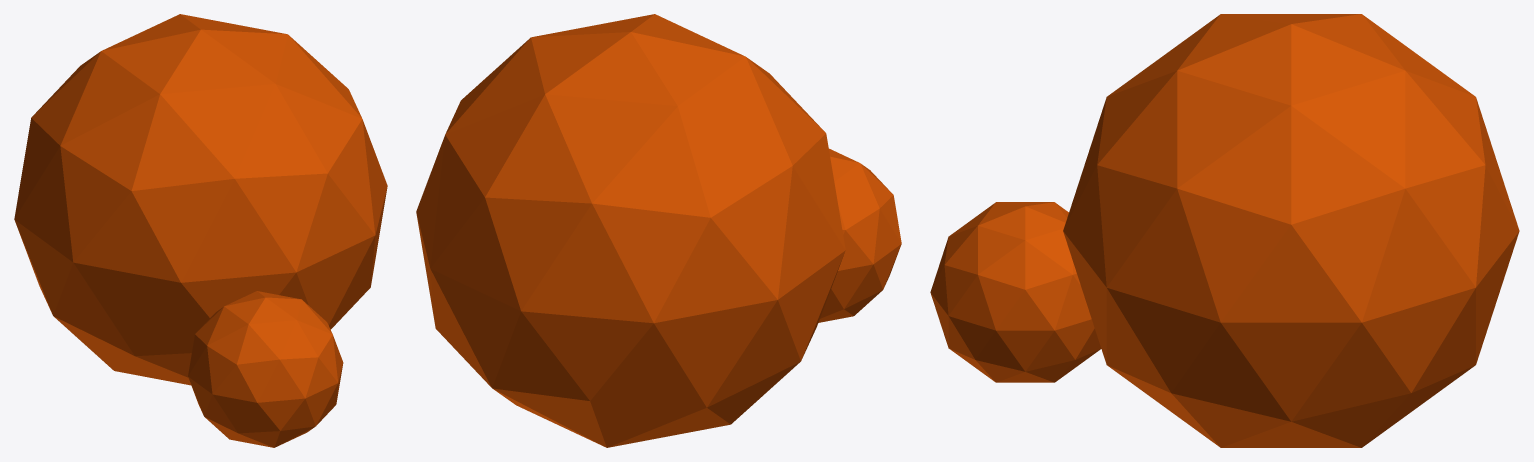
3 renders of one model, left to right at view 1: azimuth 30°, elevation 25°; view 2: azimuth 150°, elevation 25°; view 3: azimuth 270°, elevation 25°, orthographic. The views are drawn at different scales.
Parts seen in each view (by area): view 1: Icosphere.001, Icosphere; view 2: Icosphere.001, Icosphere; view 3: Icosphere.001, Icosphere.
Boxes of the visible parts, x1,y1,x2,y2 form: Icosphere.001: (14, 14, 387, 385); Icosphere: (188, 291, 343, 447); Icosphere.001: (416, 14, 845, 447); Icosphere: (818, 148, 901, 322); Icosphere.001: (1063, 14, 1519, 447); Icosphere: (930, 202, 1101, 382).
Bounding box in the file's own units: 0.3312 × 0.3483 × 0.4495.
